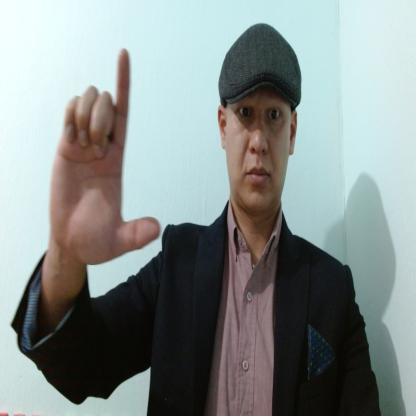L: (48, 48, 162, 264)
